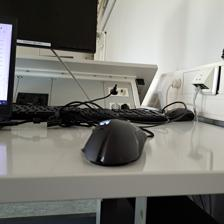mouse: (80, 118, 147, 168)
